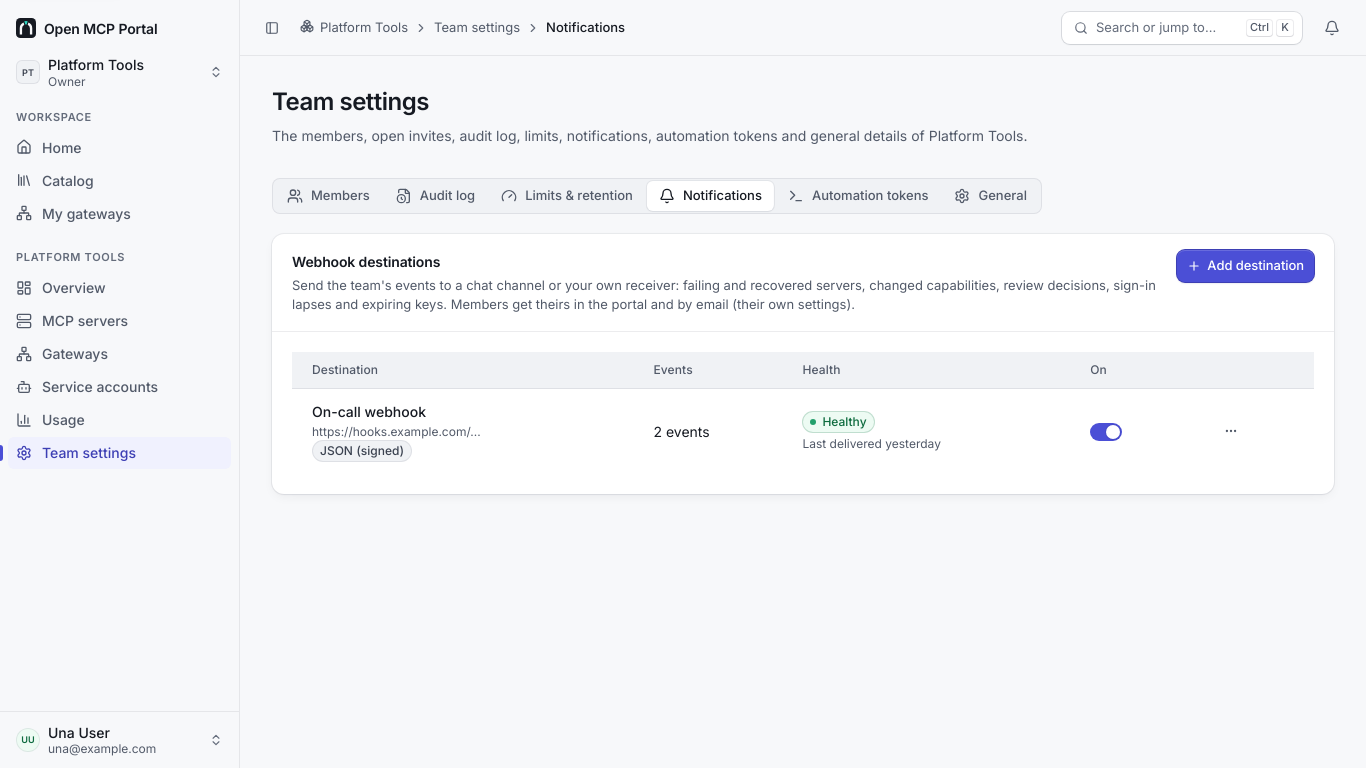
Team settings › Notifications › sends a test and shows the outcome, or why it was refused
This screenshot has width=1366, height=768.
Click the button named "Actions for On-call webhook".
click(1231, 431)  # box 1215,415 -> 1247,447
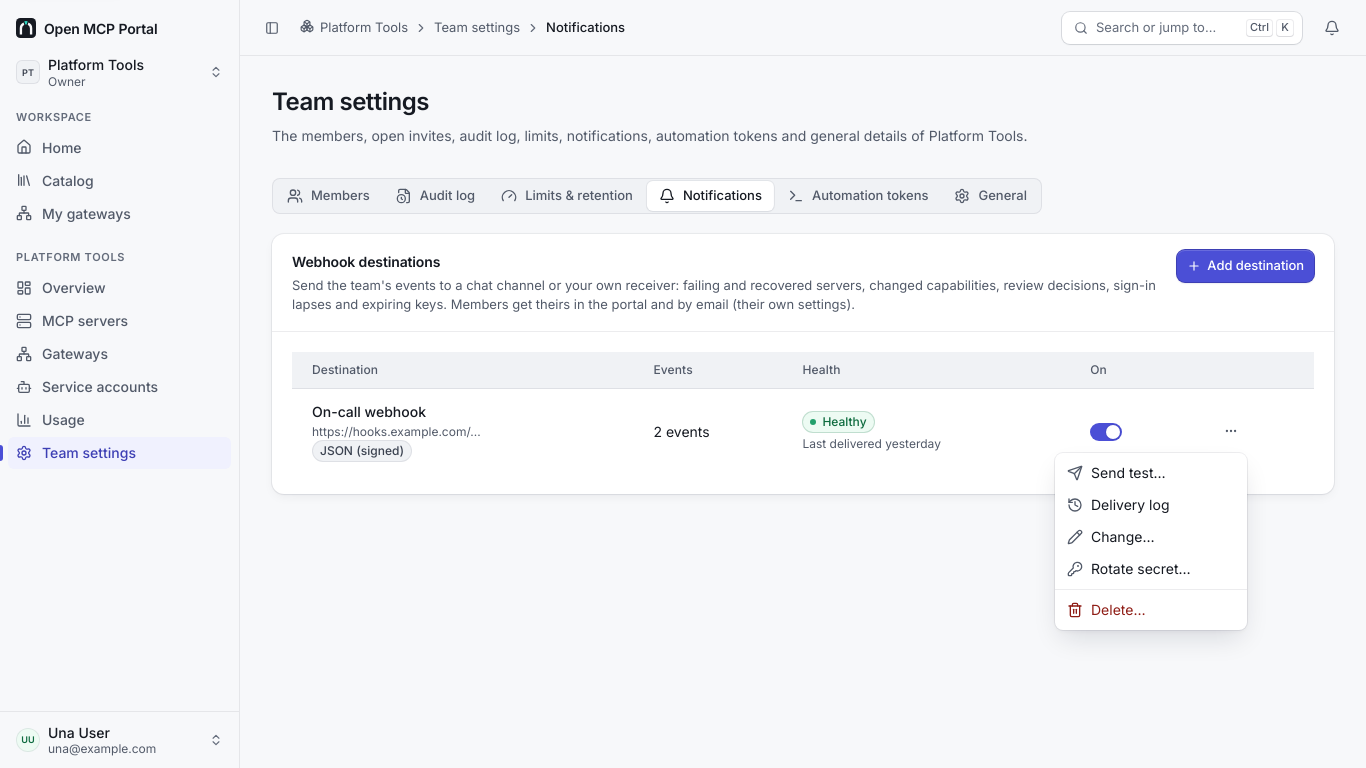
Click the menu item "Send test…".
click(1116, 472)  # box 1067,464 -> 1166,481
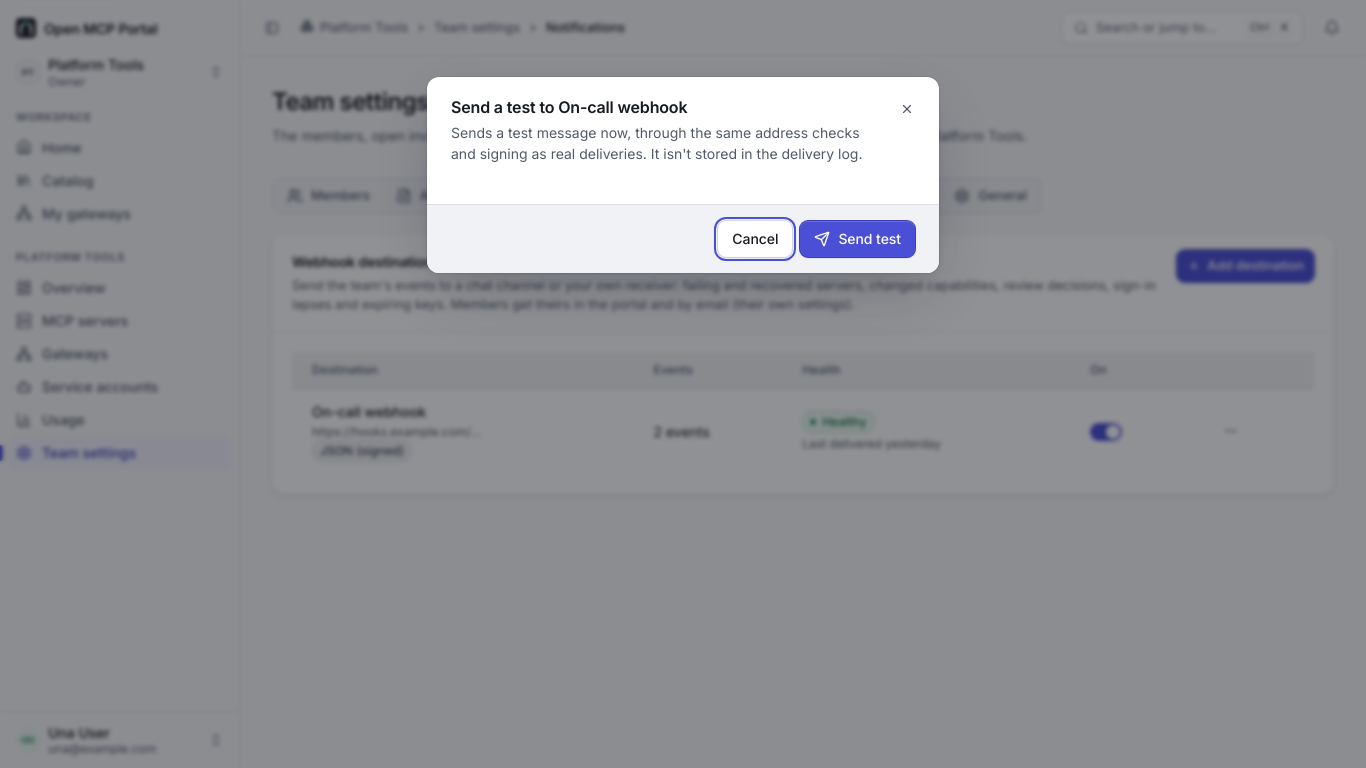
Click the button "Send test".
click(858, 239)  # box 800,221 -> 915,257
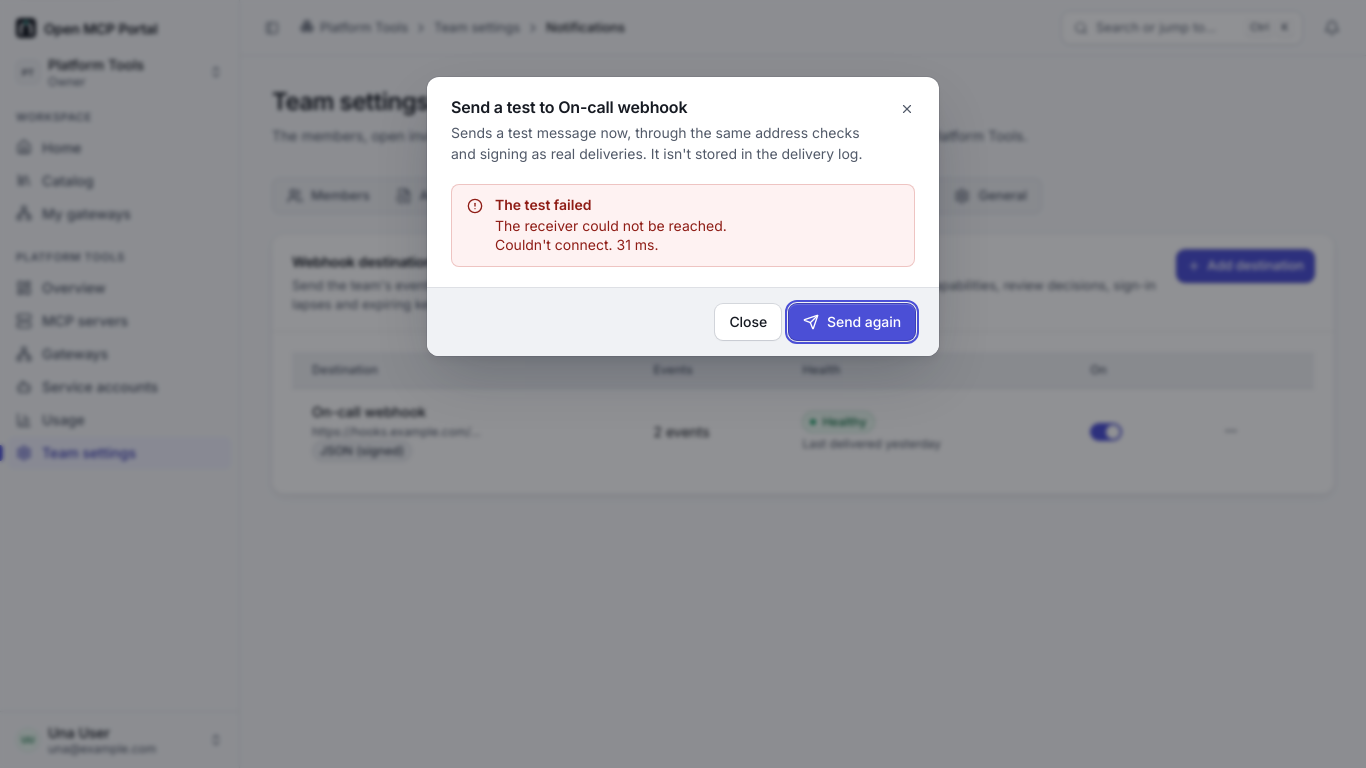
Now the text "The test failed" is shown, box 495,196 -> 591,213
Now the text "The receiver could not be reached." is shown, box 495,217 -> 727,234
Now the text "Couldn't connect. 31 ms." is shown, box 495,236 -> 658,253
Click the button "Send again".
click(852, 322)  # box 789,304 -> 915,340
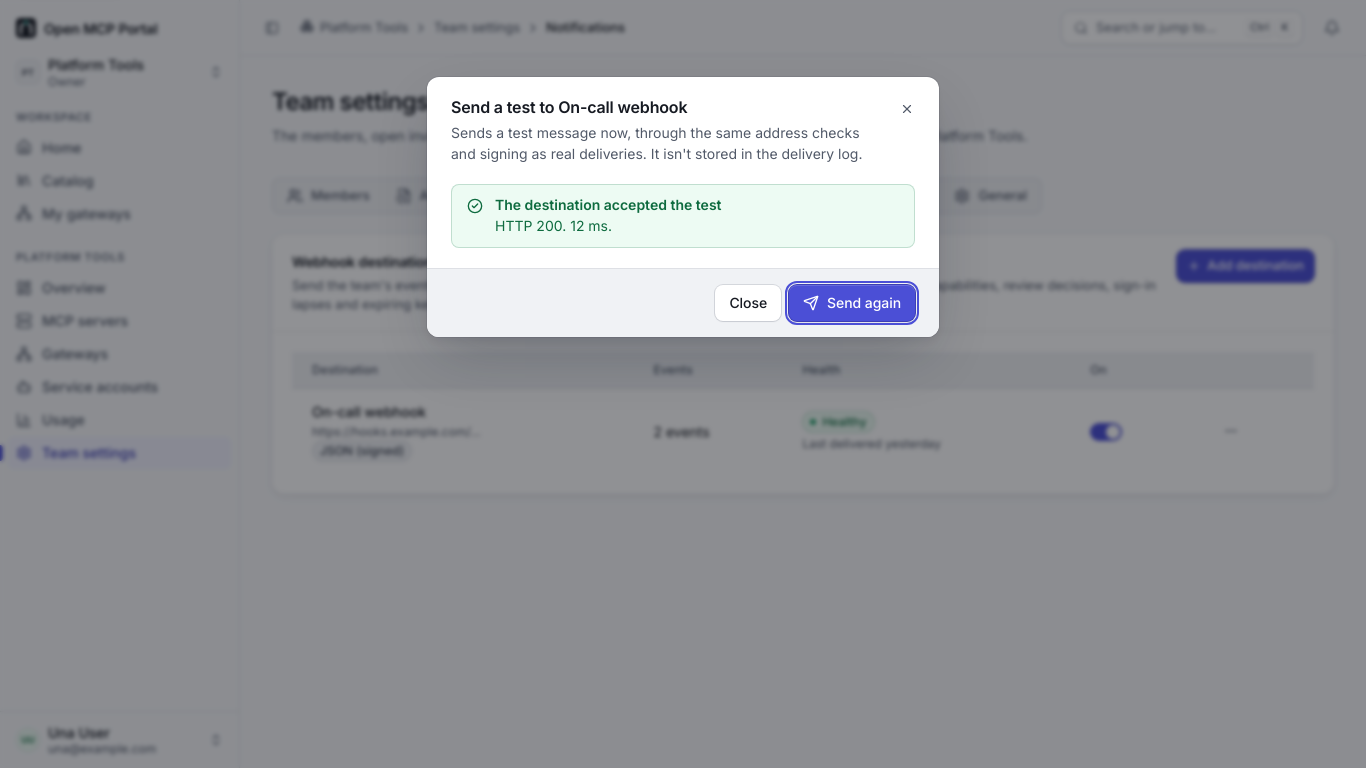
Now the text "The destination accepted the test" is shown, box 495,196 -> 722,213
Click the button "Send again".
click(852, 303)  # box 789,285 -> 915,321
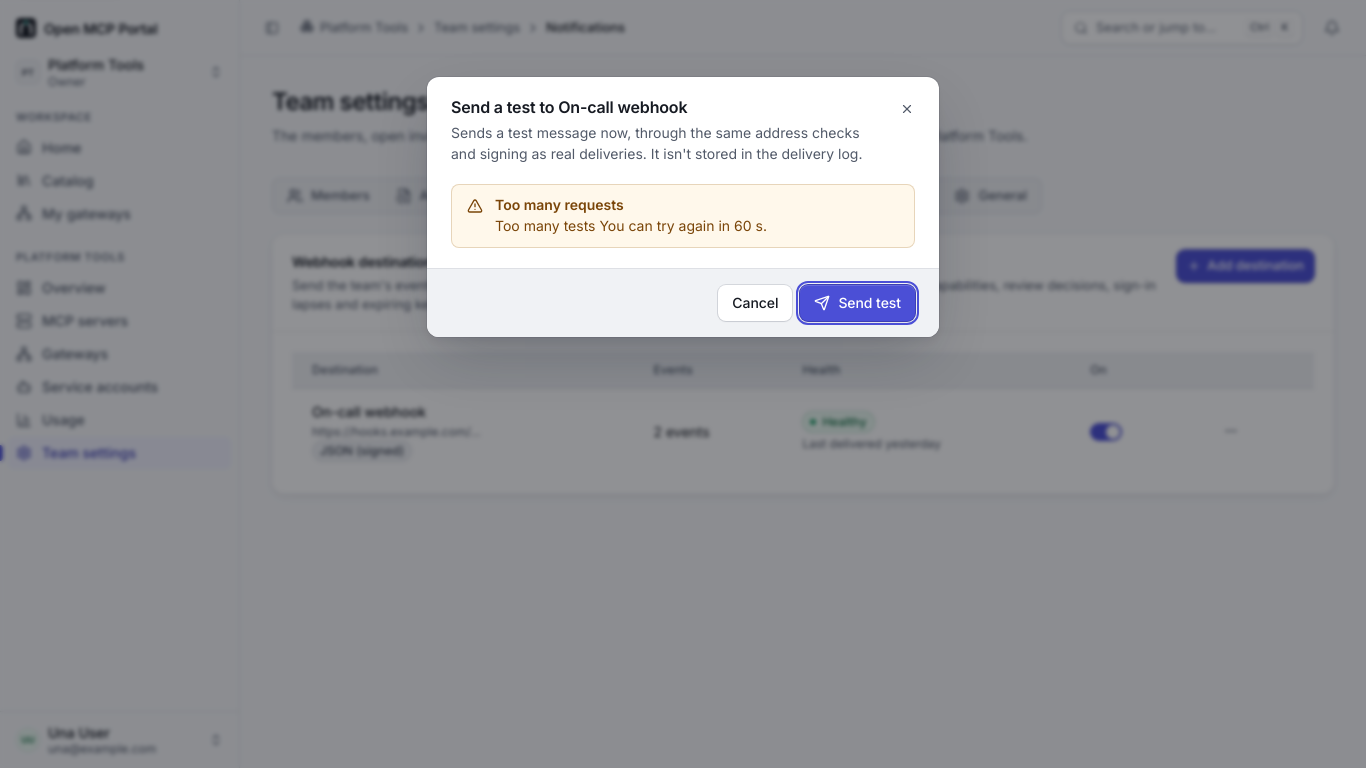
Now the text "Too many requests" is shown, box 495,196 -> 624,213
